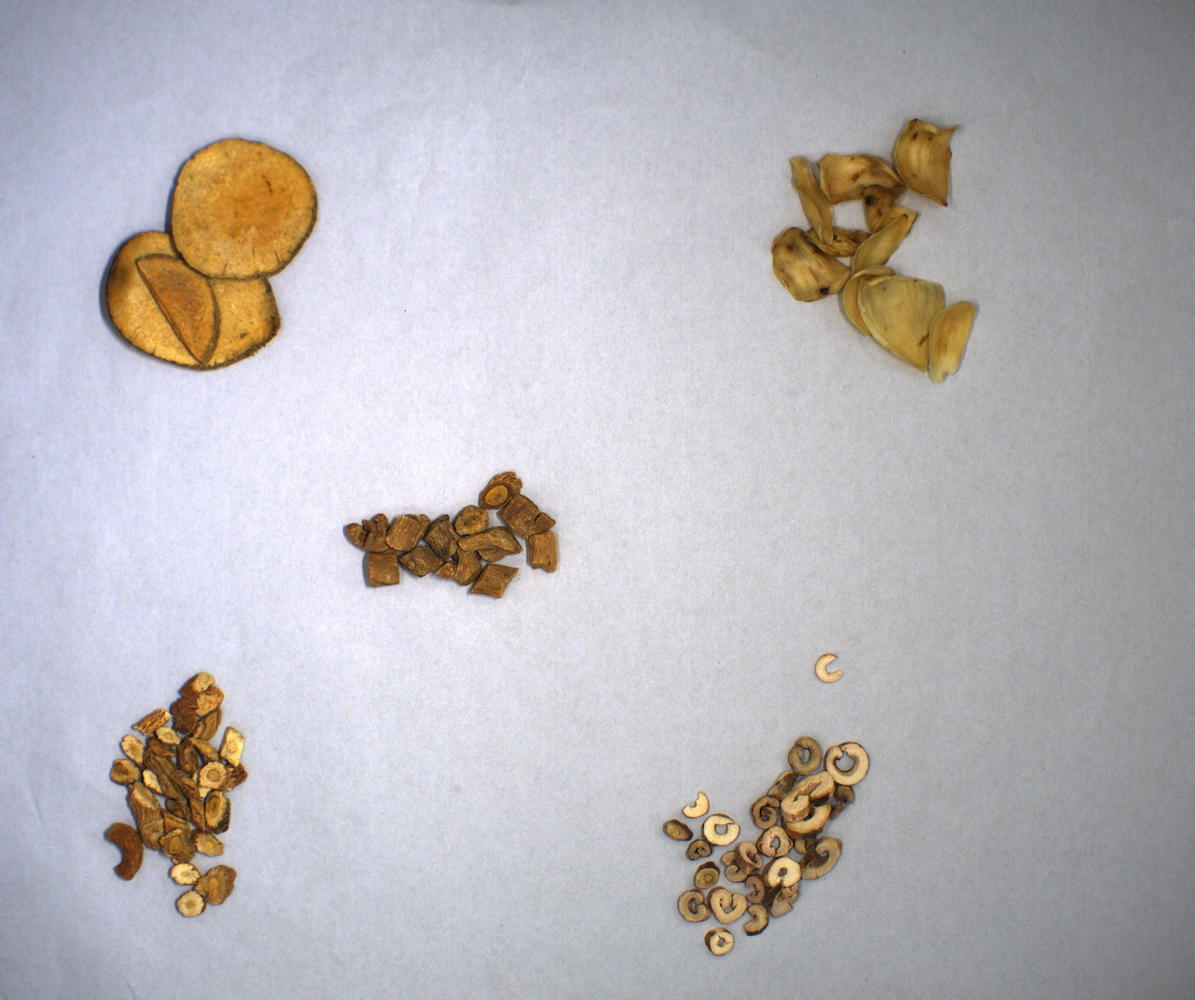baihe: (701, 101, 1051, 415)
banlangen: (77, 661, 292, 939)
mudanpi: (654, 626, 903, 977)
niuxi: (330, 446, 617, 635)
zexie: (90, 108, 339, 404)
